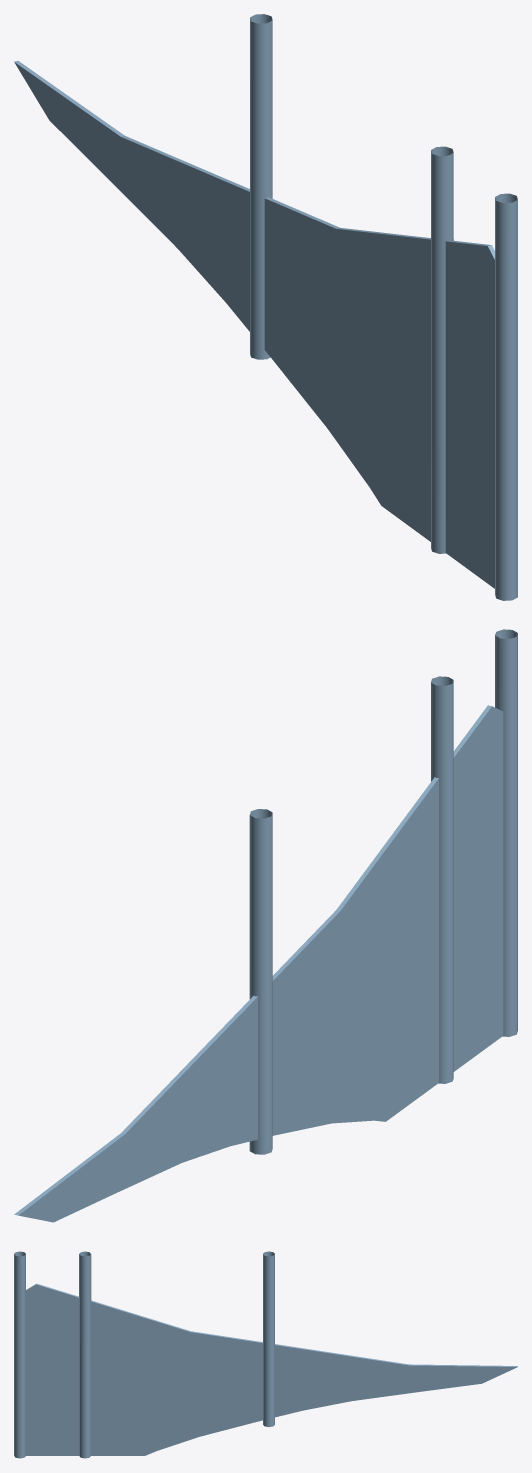
Rendered from nose mast.FBX.
The picture shows the model from 3 angles, top to bottom: view 1: azimuth 30°, elevation 25°; view 2: azimuth 150°, elevation 25°; view 3: azimuth 270°, elevation 25°; orthographic projection. The views are drawn at different scales.
Visible parts, largest first — view 1: nose mast; view 2: nose mast; view 3: nose mast.
Boxes of the visible parts, x1,y1,x2,y2 form: nose mast: (14,14,517,600); nose mast: (14,629,517,1222); nose mast: (14,1251,517,1458).
Bounding box in the file's own units: 0.00254 × 0.1061 × 0.0469.
